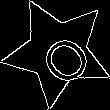O_NW: (25, 19, 90, 85)
